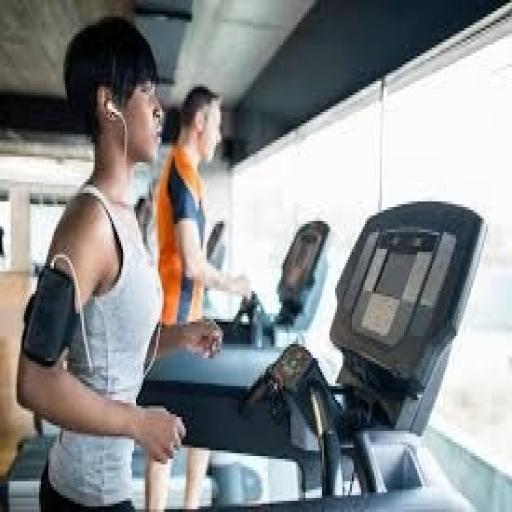running: (15, 14, 225, 509)
